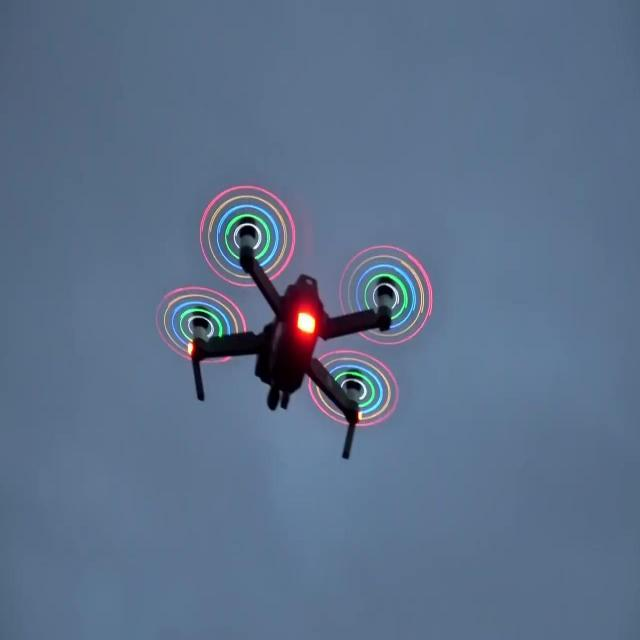UAV: (156, 182, 434, 460)
